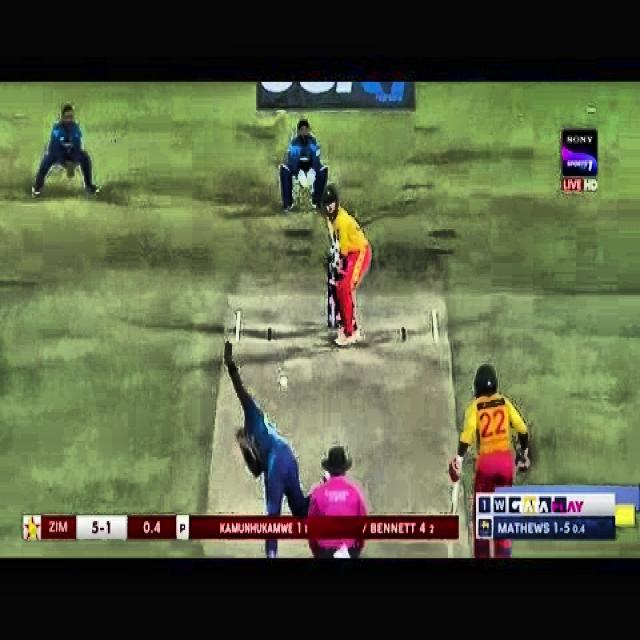Left-stump: (327, 290, 332, 326)
Middle-stump: (336, 307, 340, 327)
